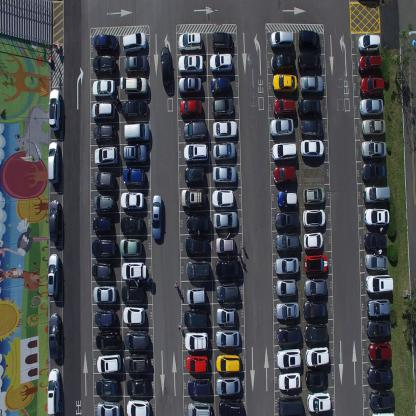car: (48, 311, 61, 360), (47, 367, 60, 415), (48, 87, 62, 131), (276, 346, 302, 369), (367, 366, 393, 389), (356, 53, 382, 76), (47, 252, 60, 298), (362, 184, 390, 205), (365, 274, 394, 294), (123, 31, 147, 55), (184, 141, 209, 164), (94, 144, 119, 167), (181, 186, 207, 208), (277, 323, 303, 345), (369, 389, 395, 411), (361, 162, 387, 184), (360, 138, 386, 160), (271, 140, 297, 162), (123, 98, 149, 120), (270, 52, 296, 74), (274, 231, 301, 252), (300, 74, 324, 97), (274, 254, 299, 276), (274, 209, 299, 231), (96, 352, 121, 374), (123, 142, 148, 164), (182, 119, 207, 141), (178, 32, 203, 54), (94, 33, 119, 55), (92, 55, 117, 77), (184, 234, 209, 256), (272, 73, 297, 95), (124, 352, 149, 374), (303, 322, 328, 344), (212, 119, 238, 140), (358, 76, 384, 97), (121, 261, 147, 282), (363, 207, 390, 227), (123, 122, 150, 142), (303, 298, 327, 320), (303, 254, 327, 276), (209, 52, 233, 74), (124, 74, 148, 96), (215, 281, 239, 303), (186, 376, 210, 398), (122, 166, 146, 188), (299, 138, 324, 159), (304, 346, 329, 367), (119, 190, 144, 211), (91, 236, 117, 256), (358, 97, 384, 117), (268, 118, 294, 138), (215, 258, 241, 278), (215, 353, 241, 373), (151, 193, 162, 240), (160, 45, 172, 88), (278, 370, 301, 392), (213, 163, 236, 185), (272, 97, 295, 119), (270, 29, 293, 51), (93, 122, 116, 144), (92, 76, 115, 98), (305, 368, 329, 389), (276, 299, 300, 320), (302, 209, 326, 230), (272, 165, 296, 186), (368, 342, 392, 363), (356, 33, 380, 54), (297, 97, 321, 118), (178, 75, 202, 96), (179, 98, 203, 119), (124, 54, 148, 75), (92, 100, 116, 121), (120, 214, 144, 235), (307, 392, 332, 412), (278, 394, 303, 414), (93, 284, 118, 304), (184, 330, 209, 350), (124, 330, 149, 350), (215, 376, 241, 395), (178, 54, 204, 73), (49, 198, 60, 242), (48, 140, 59, 184), (303, 277, 326, 298), (212, 187, 235, 208), (300, 118, 323, 139), (298, 50, 321, 71), (213, 209, 237, 229), (126, 376, 150, 396), (216, 328, 240, 348), (186, 260, 210, 280), (184, 307, 208, 327), (122, 306, 146, 326), (366, 298, 391, 317), (361, 119, 386, 138), (95, 330, 120, 349), (186, 214, 212, 232), (298, 29, 320, 50), (302, 186, 325, 206), (95, 377, 118, 397), (365, 253, 388, 273), (364, 232, 387, 252), (213, 140, 236, 160), (211, 97, 234, 117), (119, 236, 142, 256), (366, 319, 391, 337), (218, 398, 243, 416), (276, 277, 297, 298), (184, 164, 206, 184), (92, 194, 115, 213), (304, 231, 324, 252), (276, 188, 297, 208), (210, 76, 231, 96), (212, 32, 233, 52), (93, 170, 115, 189), (121, 285, 144, 303), (96, 400, 121, 416), (216, 306, 237, 325), (94, 308, 116, 326), (91, 260, 113, 278), (186, 354, 208, 372), (126, 400, 150, 416), (92, 216, 113, 234), (186, 402, 212, 416), (186, 286, 206, 304), (215, 236, 236, 253)
